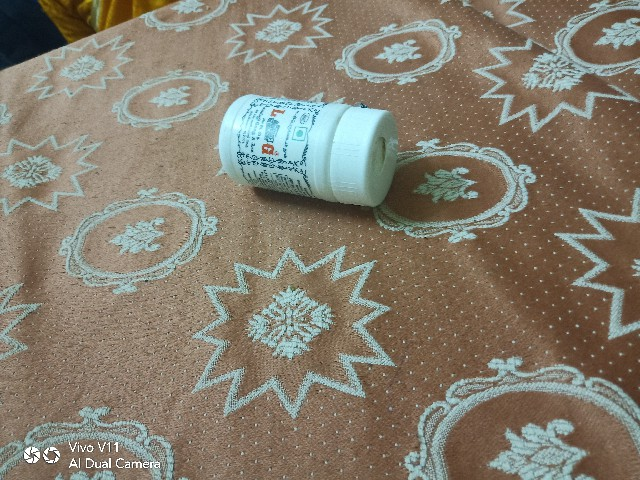lgasafoetidapowder small: (189, 75, 404, 236)
